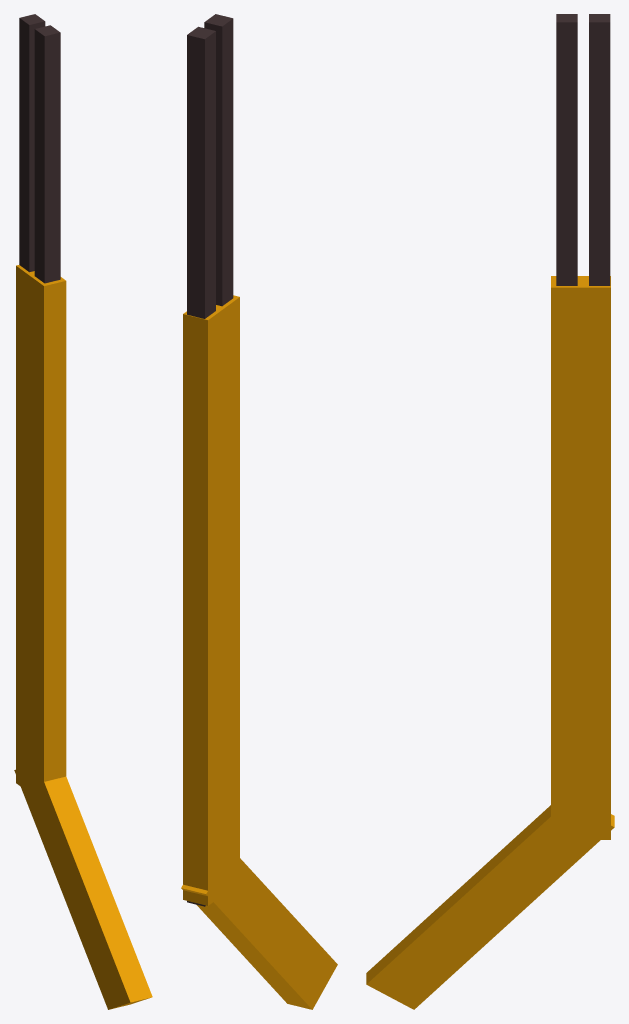
Rendered from ShotGun.gltf.
The picture shows the model from 3 angles, left to right: view 1: azimuth 30°, elevation 25°; view 2: azimuth 150°, elevation 25°; view 3: azimuth 270°, elevation 25°; orthographic projection. The views are drawn at different scales.
Visible parts, largest first — view 1: 立方体; view 2: 立方体; view 3: 立方体.
Part boxes in pixels (x1=…): 立方体: x1=14, y1=14, x2=152, y2=1009; 立方体: x1=181, y1=14, x2=337, y2=1009; 立方体: x1=366, y1=14, x2=614, y2=1009.
Bounding box in the file's own units: 0.1539 × 6.11 × 1.4.
